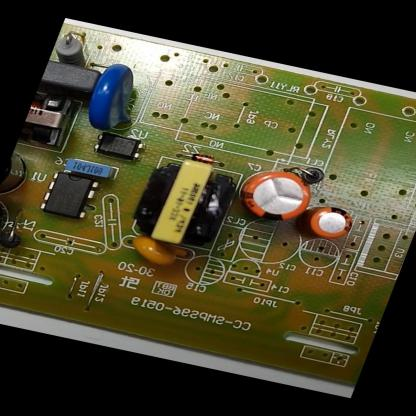Cap1: (226, 157, 329, 235)
Cap2: (291, 198, 364, 249)
Cap3: (0, 145, 45, 208)
Cap4: (0, 192, 33, 255)
MOSFET: (37, 166, 107, 226)
Mov: (72, 57, 154, 140)
Resistor: (47, 24, 104, 74)
Transformer: (122, 151, 242, 258), (17, 88, 83, 151)
